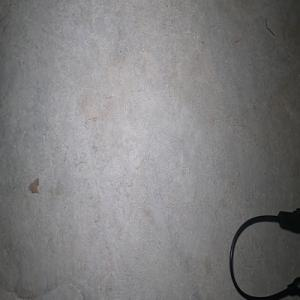Wire: (229, 207, 300, 299)
